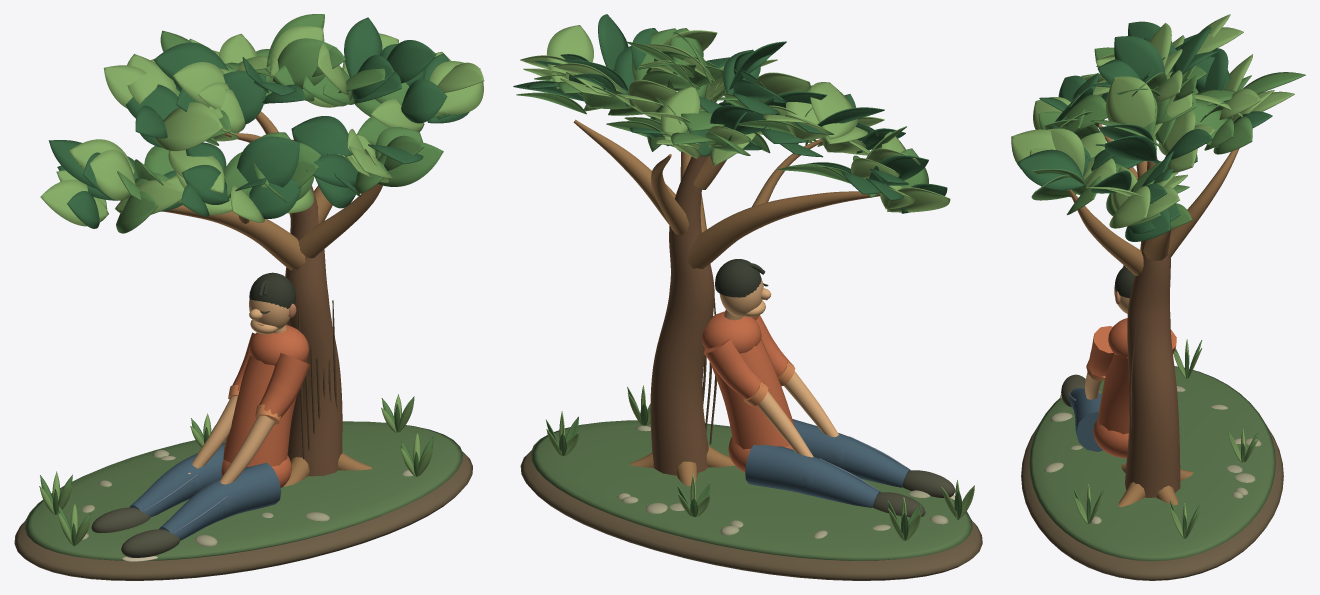
Rendered from rest.glb.
The picture shows the model from 3 angles, left to right: view 1: azimuth 30°, elevation 25°; view 2: azimuth 150°, elevation 25°; view 3: azimuth 270°, elevation 25°; orthographic projection. The views are drawn at different scales.
Visible parts, largest first — view 1: rest_surface_05, rest_surface_07, rest_surface_01, rest_surface_06, rest_surface_00, rest_surface_02, rest_surface_08, rest_surface_13, rest_surface_03, rest_surface_09, rest_surface_14, rest_surface_04 (+2 smaller); view 2: rest_surface_01, rest_surface_07, rest_surface_05, rest_surface_02, rest_surface_06, rest_surface_00, rest_surface_03, rest_surface_13, rest_surface_08, rest_surface_09, rest_surface_14, rest_surface_11 (+1 smaller); view 3: rest_surface_01, rest_surface_07, rest_surface_05, rest_surface_02, rest_surface_06, rest_surface_00, rest_surface_03, rest_surface_08, rest_surface_13, rest_surface_17, rest_surface_09, rest_surface_11 (+1 smaller).
Part boxes in pixels (x1=…): rest_surface_05: x1=48, y1=17, x2=469, y2=228; rest_surface_07: x1=39, y1=25, x2=484, y2=546; rest_surface_01: x1=24, y1=421, x2=462, y2=560; rest_surface_06: x1=40, y1=14, x2=446, y2=546; rest_surface_00: x1=14, y1=451, x2=472, y2=580; rest_surface_02: x1=285, y1=139, x2=342, y2=476; rest_surface_08: x1=221, y1=325, x2=310, y2=487; rest_surface_13: x1=129, y1=442, x2=281, y2=540; rest_surface_03: x1=163, y1=111, x2=382, y2=486; rest_surface_09: x1=188, y1=299, x2=289, y2=484; rest_surface_14: x1=91, y1=507, x2=180, y2=557; rest_surface_04: x1=298, y1=300, x2=337, y2=459; rest_surface_01: x1=530, y1=420, x2=972, y2=560; rest_surface_07: x1=520, y1=25, x2=974, y2=540; rest_surface_05: x1=513, y1=14, x2=947, y2=213; rest_surface_02: x1=650, y1=155, x2=714, y2=475; rest_surface_06: x1=516, y1=28, x2=963, y2=540; rest_surface_00: x1=520, y1=450, x2=982, y2=580; rest_surface_03: x1=573, y1=119, x2=879, y2=486; rest_surface_13: x1=745, y1=419, x2=910, y2=507; rest_surface_08: x1=702, y1=311, x2=794, y2=472; rest_surface_09: x1=719, y1=279, x2=838, y2=457; rest_surface_14: x1=873, y1=470, x2=955, y2=517; rest_surface_11: x1=715, y1=259, x2=768, y2=297; rest_surface_01: x1=1029, y1=366, x2=1275, y2=561; rest_surface_07: x1=1011, y1=14, x2=1294, y2=538; rest_surface_05: x1=1018, y1=21, x2=1272, y2=241; rest_surface_02: x1=1125, y1=161, x2=1180, y2=497; rest_surface_06: x1=1031, y1=47, x2=1305, y2=538; rest_surface_00: x1=1021, y1=426, x2=1283, y2=580; rest_surface_03: x1=1068, y1=123, x2=1239, y2=507; rest_surface_08: x1=1088, y1=318, x2=1176, y2=458; rest_surface_13: x1=1069, y1=387, x2=1102, y2=451; rest_surface_17: x1=1044, y1=386, x2=1261, y2=523; rest_surface_09: x1=1084, y1=286, x2=1129, y2=399; rest_surface_11: x1=1114, y1=265, x2=1135, y2=298.
Bounding box in the file's own units: 4.39 × 4.4 × 2.58.
